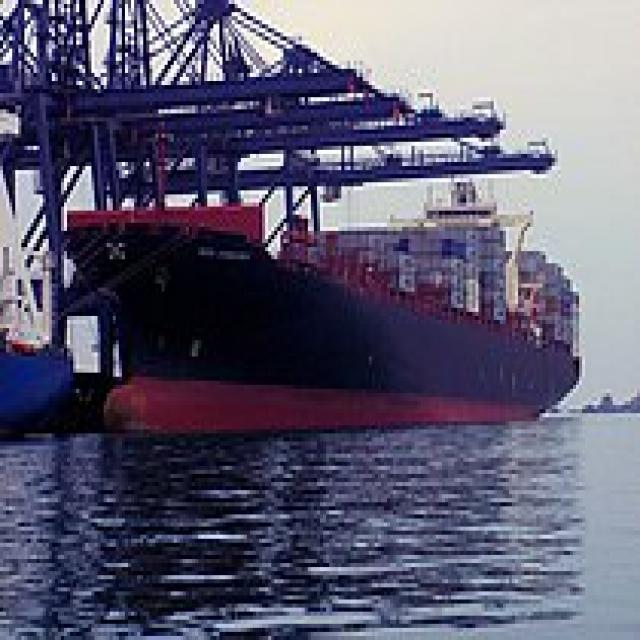Ship: (50, 171, 590, 439)
